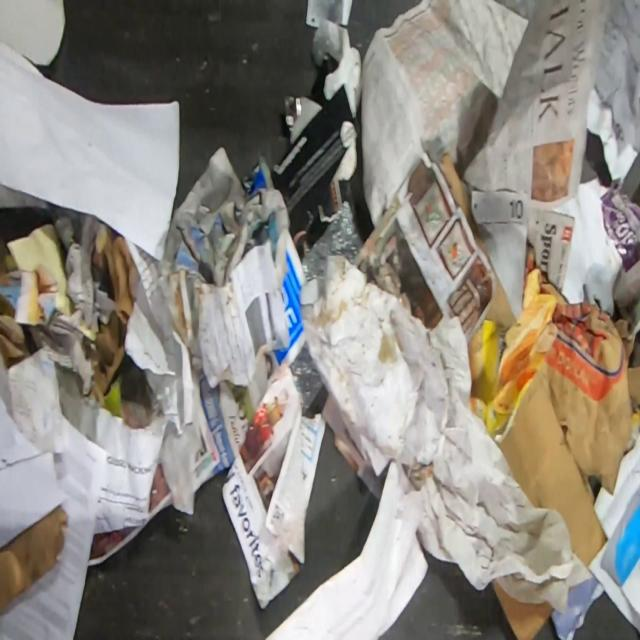cardboard: (496, 369, 608, 569), (436, 150, 518, 329), (0, 223, 73, 369), (0, 505, 69, 612), (493, 578, 554, 640)
soft_plastic: (301, 200, 363, 298), (289, 340, 324, 409)
